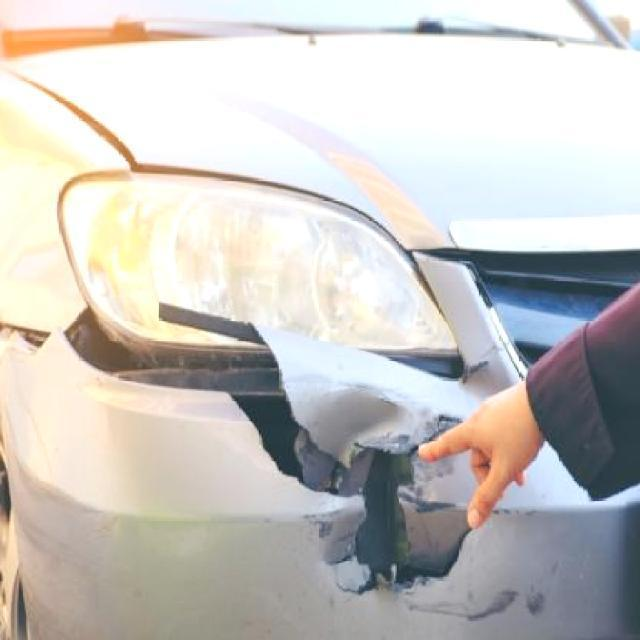minor: (40, 303, 488, 594)
moderate: (403, 575, 525, 626), (520, 557, 562, 620)
